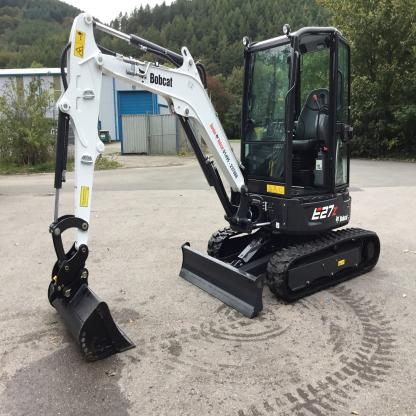excavator: (30, 1, 384, 384)
